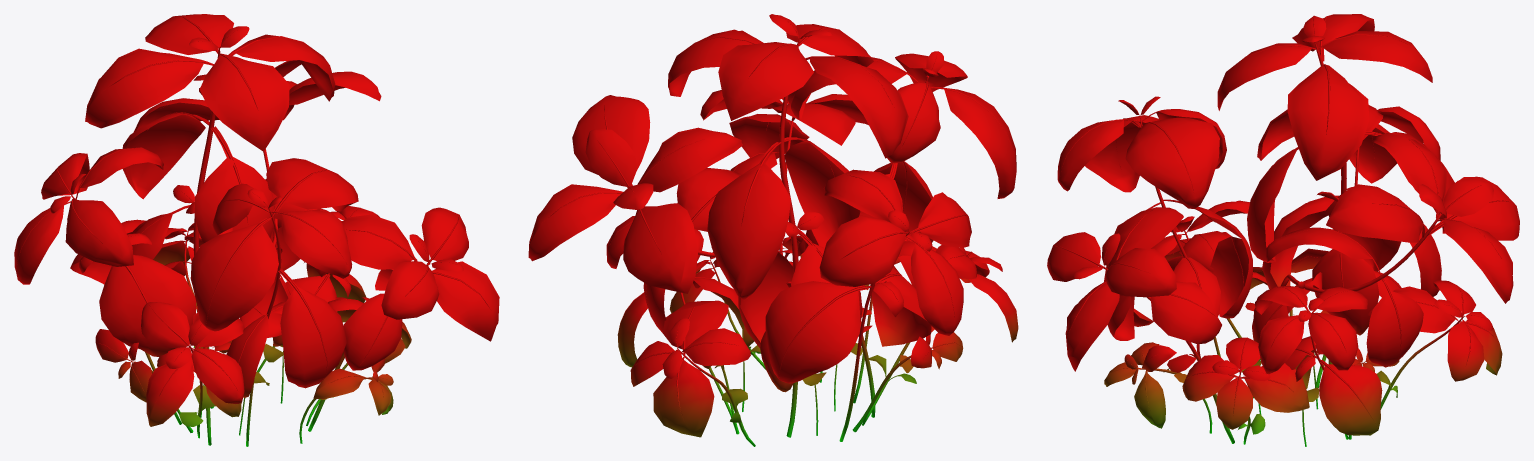
The model's file is Basil_LOD1_Var4_vgpochzia.fbx.
3 renders of one model, left to right at view 1: azimuth 30°, elevation 25°; view 2: azimuth 150°, elevation 25°; view 3: azimuth 270°, elevation 25°, orthographic. The views are drawn at different scales.
Parts seen in each view (by area): view 1: _m26b_Var4_LOD1; view 2: _m26b_Var4_LOD1; view 3: _m26b_Var4_LOD1.
Part boxes in pixels (x1,y1,x2,y2): _m26b_Var4_LOD1: (14, 14, 499, 446); _m26b_Var4_LOD1: (528, 14, 1018, 446); _m26b_Var4_LOD1: (1047, 14, 1519, 446).
Bounding box in the file's own units: 35.31 × 36.53 × 39.83.
